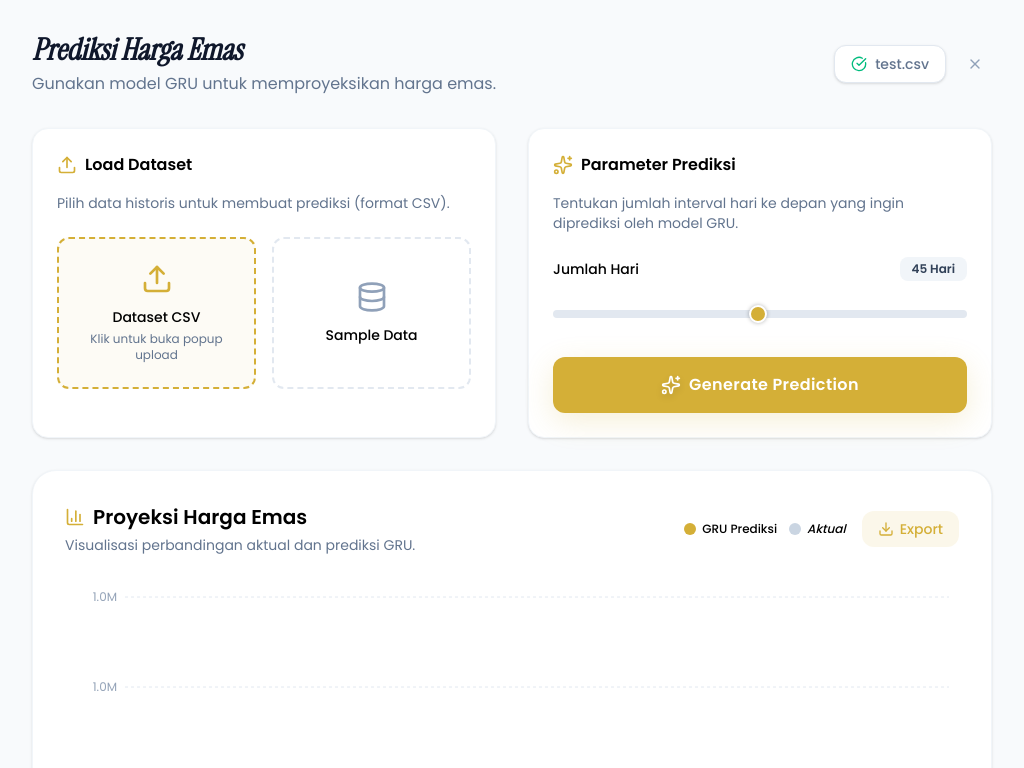
Test: Predict Page › should show dataset criteria and sample CSV inside modal
Click the button "Dataset CSV Klik untuk buka popup upload".
click(156, 313)  # box x1=57 y1=237 x2=256 y2=389
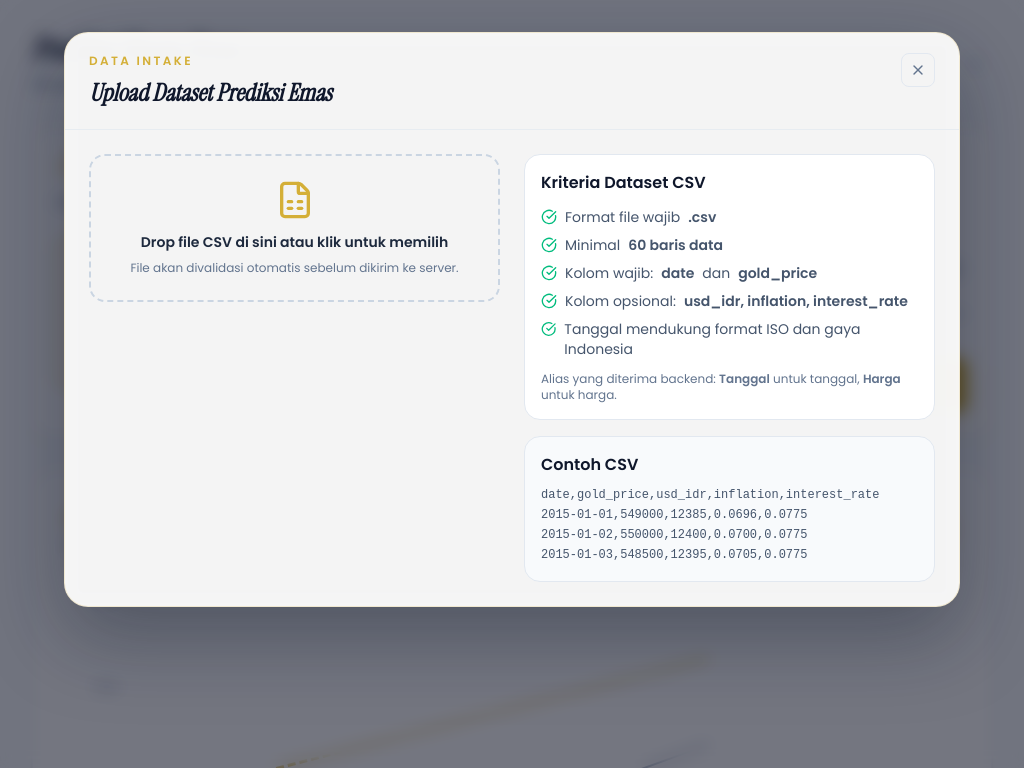
Expected: the heading "Kriteria Dataset CSV" is shown, x1=541 y1=171 x2=706 y2=194
Expected: the list item "Minimal 60 baris data" is shown, x1=541 y1=235 x2=723 y2=255
Expected: the heading "Contoh CSV" is shown, x1=541 y1=453 x2=638 y2=476
